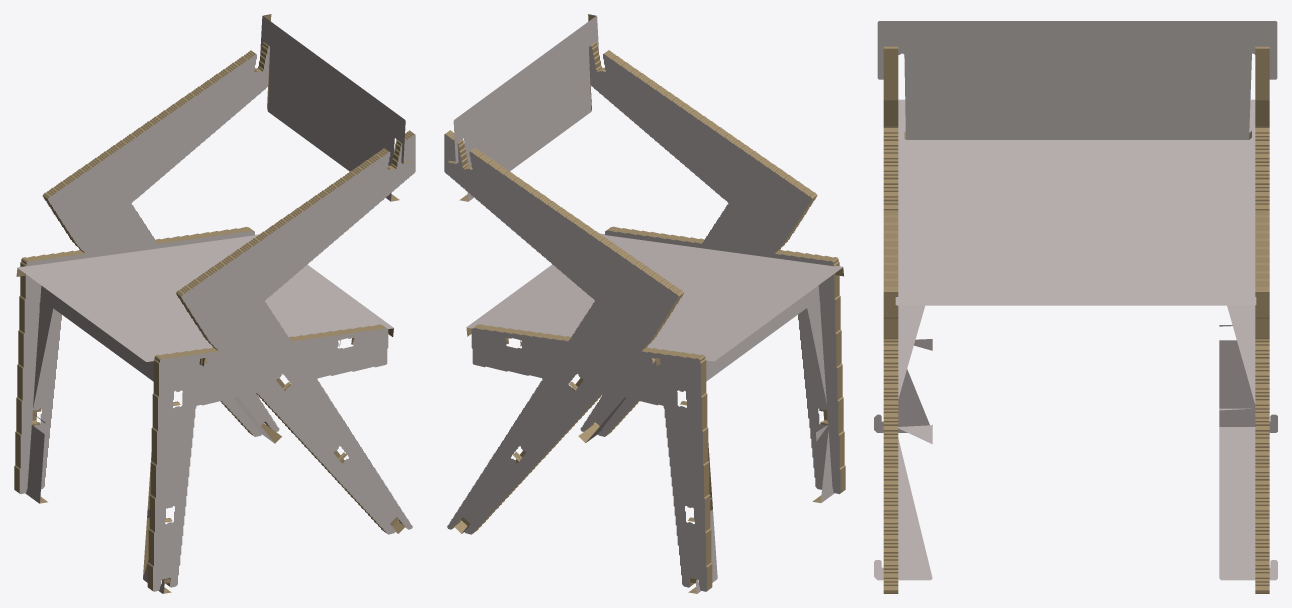
The model's file is NODO_SILLA_ESCULTORICA_PARAISO_MDF_V1.glb.
The picture shows the model from 3 angles, left to right: view 1: azimuth 30°, elevation 25°; view 2: azimuth 150°, elevation 25°; view 3: azimuth 270°, elevation 25°; orthographic projection. The views are drawn at different scales.
Visible parts, largest first — view 1: A_Lateral_Izq, B_Lateral_Der, E_Tapa_Asiento, F_Respaldo, C_Escuadra_Del, D_Escuadra_Tras; view 2: B_Lateral_Der, A_Lateral_Izq, E_Tapa_Asiento, F_Respaldo, C_Escuadra_Del, D_Escuadra_Tras; view 3: E_Tapa_Asiento, F_Respaldo, D_Escuadra_Tras, A_Lateral_Izq, B_Lateral_Der, C_Escuadra_Del.
Boxes of the visible parts, box(x1,y1,x2,y2) form: A_Lateral_Izq: box(147, 130, 415, 591); B_Lateral_Der: box(14, 42, 279, 494); E_Tapa_Asiento: box(16, 234, 393, 366); F_Respaldo: box(260, 14, 411, 201); C_Escuadra_Del: box(25, 285, 180, 593); D_Escuadra_Tras: box(204, 358, 405, 533); B_Lateral_Der: box(444, 130, 712, 591); A_Lateral_Izq: box(580, 42, 845, 494); E_Tapa_Asiento: box(466, 233, 843, 365); F_Respaldo: box(448, 14, 598, 201); C_Escuadra_Del: box(680, 285, 834, 593); D_Escuadra_Tras: box(454, 358, 655, 533); E_Tapa_Asiento: box(895, 99, 1256, 305); F_Respaldo: box(877, 21, 1277, 139); D_Escuadra_Tras: box(874, 305, 1277, 580); A_Lateral_Izq: box(883, 46, 898, 593); B_Lateral_Der: box(1255, 46, 1269, 593); C_Escuadra_Del: box(874, 325, 1277, 432).
Bounding box in the file's own units: 0.53 × 0.79 × 0.5.
